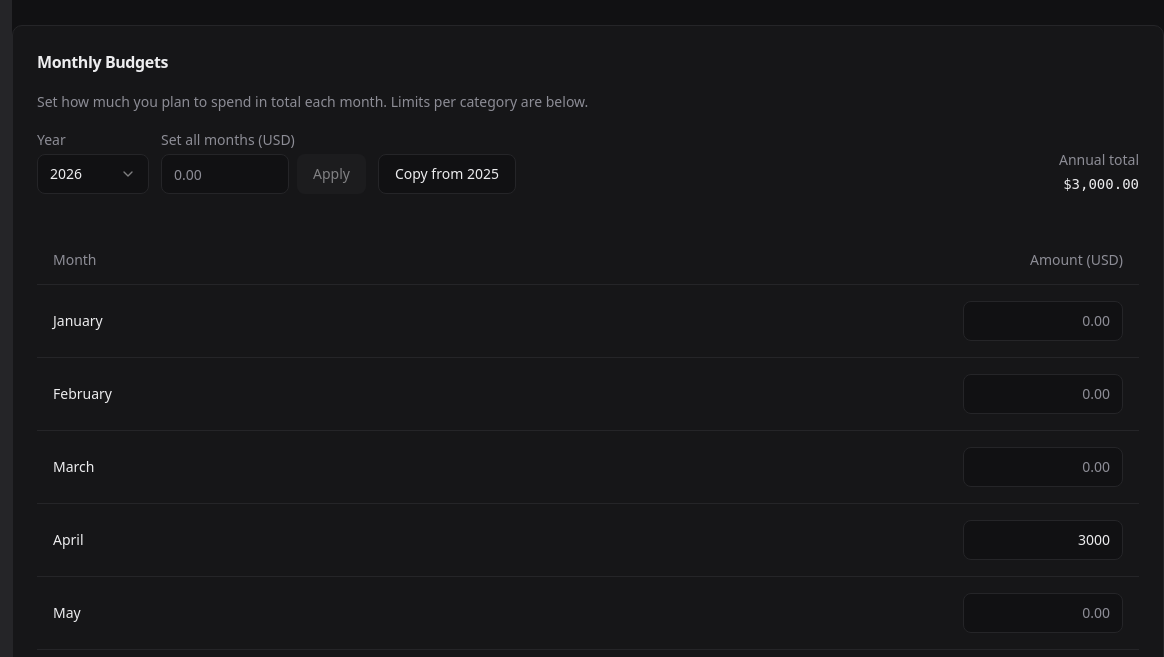
it: Budgets page › Monthly Budgets panel — as admin › a failed clear puts the row back, so the blank field cannot lie
Step 1. Clear the number field named "Budget for April 2026" → (1043, 540), box [963,520,1123,560]
(page scrolled)
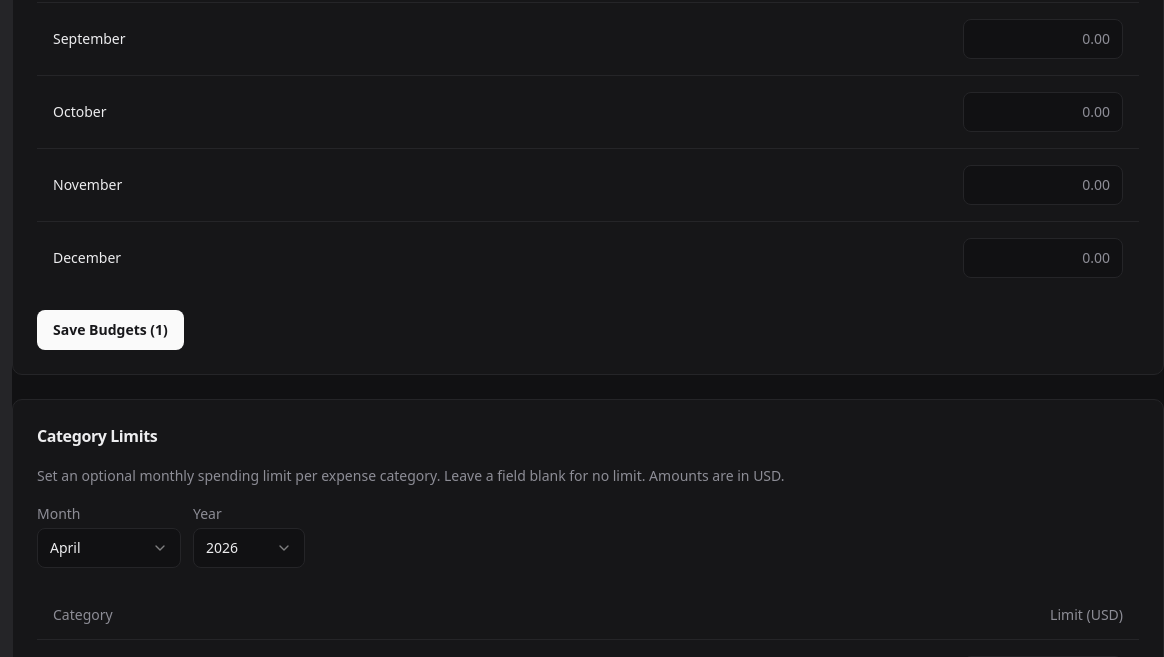
Step 2. Click the button "Save Budgets (1)" → (110, 330), box [37,310,184,350]
(page scrolled)
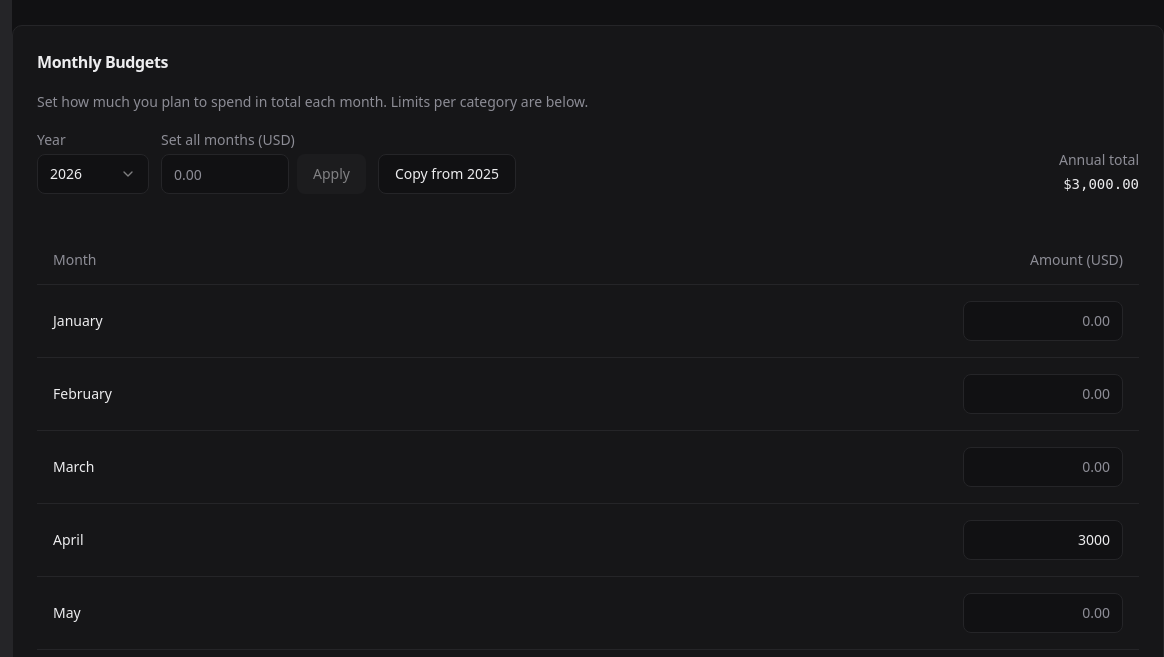
Now the number field named "Budget for April 2026" holds "3000", box [963,520,1123,560]
